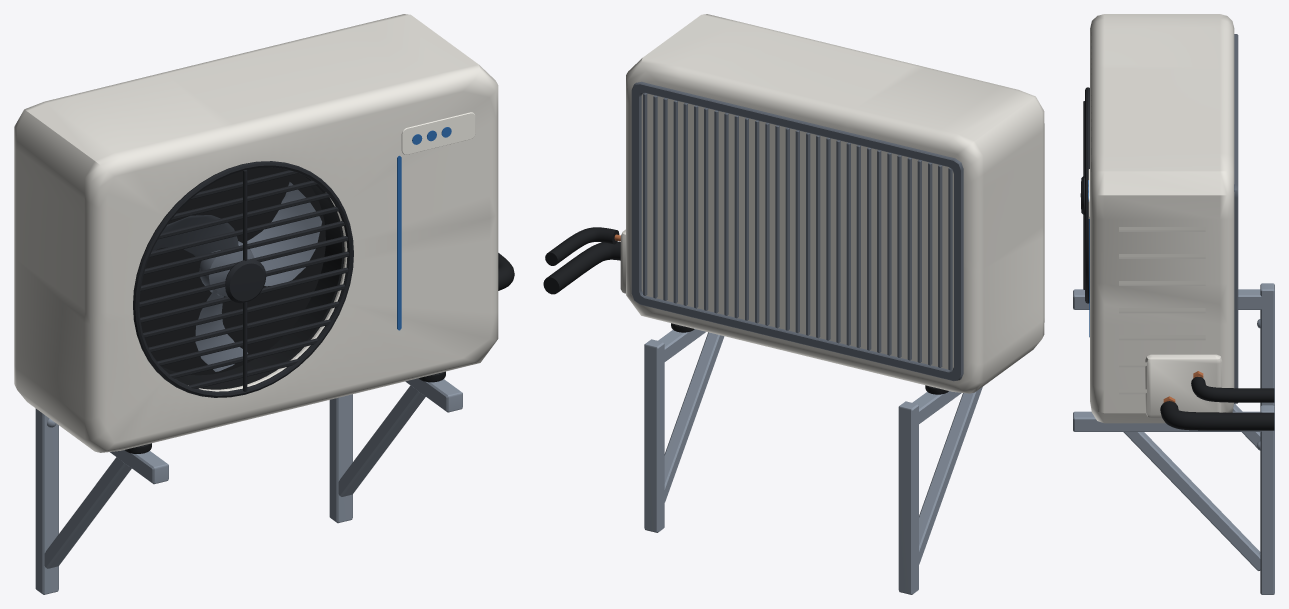
File: ACUnit.fbx
3 views of the same model, side by side, from view 1: azimuth 30°, elevation 25°; view 2: azimuth 150°, elevation 25°; view 3: azimuth 270°, elevation 25° (orthographic). The views are drawn at different scales.
Visible parts, largest first — view 1: ACUnit_Casing, ACUnit_Grille, ACUnit_Shroud, ACUnit_Brackets, ACUnit_Fan, ACUnit_Badge, ACUnit_BadgeMark; view 2: ACUnit_Casing, ACUnit_RearFins, ACUnit_Brackets, ACUnit_PipeInsulation; view 3: ACUnit_Casing, ACUnit_Brackets, ACUnit_PipeInsulation, ACUnit_RearFins, ACUnit_Grille.
Part boxes in pixels (x1=…): ACUnit_Casing: x1=14, y1=14, x2=498, y2=452; ACUnit_Grille: x1=133, y1=161, x2=353, y2=397; ACUnit_Shroud: x1=139, y1=167, x2=344, y2=389; ACUnit_Brackets: x1=35, y1=378, x2=462, y2=594; ACUnit_Fan: x1=152, y1=182, x2=321, y2=371; ACUnit_Badge: x1=401, y1=112, x2=475, y2=154; ACUnit_BadgeMark: x1=397, y1=127, x2=451, y2=330; ACUnit_Casing: x1=620, y1=14, x2=1044, y2=393; ACUnit_RearFins: x1=631, y1=81, x2=963, y2=381; ACUnit_Brackets: x1=644, y1=329, x2=982, y2=594; ACUnit_PipeInsulation: x1=543, y1=227, x2=620, y2=294; ACUnit_Casing: x1=1090, y1=14, x2=1234, y2=423; ACUnit_Brackets: x1=1073, y1=283, x2=1274, y2=594; ACUnit_PipeInsulation: x1=1160, y1=376, x2=1274, y2=430; ACUnit_RearFins: x1=1234, y1=34, x2=1238, y2=403; ACUnit_Grille: x1=1080, y1=87, x2=1089, y2=303.
Size of the model in its own units: 97.4 by 101 by 41.9.
